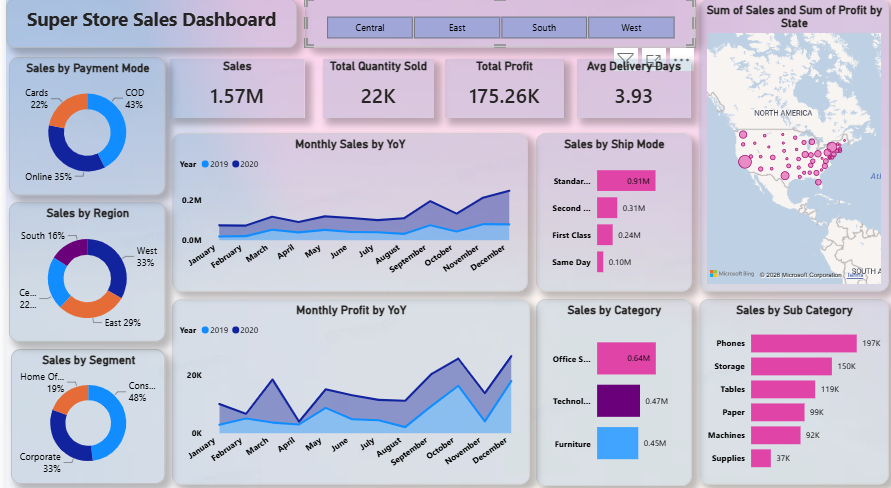

The page's visual inventory and layout, read from the dashboard file:
{"tool":"powerbi","page":{"name":"Page 1","canvas":[1280,720],"ordinal":0},"visuals":[{"type":"clusteredBarChart","title":"Sales by Category","fields":{"Category":["SuperStore_Sales_Dataset.Category"],"Y":["Sum(SuperStore_Sales_Dataset.Sales)"]},"box":[762.7,437.3,223.9,268.7],"z":0},{"type":"clusteredBarChart","title":"Sales by Sub Category","fields":{"Y":["Sum(SuperStore_Sales_Dataset.Sales)"],"Category":["SuperStore_Sales_Dataset.Sub-Category"]},"box":[998.5,437.3,273.1,267.2],"z":1000},{"type":"clusteredBarChart","title":"Sales by Ship Mode","fields":{"Y":["Sum(SuperStore_Sales_Dataset.Sales)"],"Category":["SuperStore_Sales_Dataset.Ship Mode"]},"box":[762.7,198.5,223.9,228.4],"z":2000},{"type":"stackedAreaChart","title":"Monthly Sales by YoY","fields":{"Y":["Sum(SuperStore_Sales_Dataset.Sales)"],"Series":["SuperStore_Sales_Dataset.Order Date.Variation.Date Hierarchy.Year"],"Category":["SuperStore_Sales_Dataset.Order Date.Variation.Date Hierarchy.Month","SuperStore_Sales_Dataset.Order Date.Variation.Date Hierarchy.Day"]},"box":[238.8,198.5,511.9,228.4],"z":3000},{"type":"stackedAreaChart","title":"Monthly Profit by YoY","fields":{"Series":["SuperStore_Sales_Dataset.Order Date.Variation.Date Hierarchy.Year"],"Category":["SuperStore_Sales_Dataset.Order Date.Variation.Date Hierarchy.Month","SuperStore_Sales_Dataset.Order Date.Variation.Date Hierarchy.Day"],"Y":["Sum(SuperStore_Sales_Dataset.Profit)"]},"box":[238.8,437.3,514.9,267.2],"z":4000},{"type":"map","fields":{"Category":["SuperStore_Sales_Dataset.State"],"Size":["Sum(SuperStore_Sales_Dataset.Sales)"]},"box":[998.5,6,273.1,420.9],"z":5000},{"type":"donutChart","title":"Sales by Segment","fields":{"Category":["SuperStore_Sales_Dataset.Segment"],"Y":["Sum(SuperStore_Sales_Dataset.Sales)"]},"box":[7.5,510.4,222.4,194],"z":6000},{"type":"donutChart","title":"Sales by Payment Mode","fields":{"Y":["Sum(SuperStore_Sales_Dataset.Sales)"],"Category":["SuperStore_Sales_Dataset.Payment Mode"]},"box":[4.5,89.6,225.4,198.5],"z":7000},{"type":"slicer","fields":{"Values":["SuperStore_Sales_Dataset.Region"]},"box":[430.6,4.3,561.6,70.6],"z":8000},{"type":"textbox","box":[0,4.3,419,72],"z":9000},{"type":"cardVisual","title":"Sales","fields":{"Data":["Sum(SuperStore_Sales_Dataset.Sales)"]},"box":[235.8,92.5,194,85.1],"z":10000},{"type":"cardVisual","title":"Total Quantity Sold","fields":{"Data":["Sum(SuperStore_Sales_Dataset.Quantity)"]},"box":[456.5,92.2,159.8,85],"z":11000},{"type":"cardVisual","title":"Total Profit ","fields":{"Data":["Sum(SuperStore_Sales_Dataset.Profit)"]},"box":[632.8,92.5,171.6,85.1],"z":12000},{"type":"cardVisual","title":"Avg Delivery Days","fields":{"Data":["Avg(SuperStore_Sales_Dataset.AvgDelivery)"]},"box":[822.4,92.5,164.2,85.1],"z":13000},{"type":"donutChart","title":"Sales by Region","fields":{"Y":["Sum(SuperStore_Sales_Dataset.Sales)"],"Category":["SuperStore_Sales_Dataset.Region"]},"box":[4.5,298.5,225.4,201.5],"z":14000}]}

Visuals, with their boxes in screenshot pixels (x1, y1, x2, y2), scaled from the page's 1280x720 canvas onto the 891x488 screenshot:
"Sales by Category" clusteredBarChart: select_region(531, 296, 687, 479)
"Sales by Sub Category" clusteredBarChart: select_region(695, 296, 885, 477)
"Sales by Ship Mode" clusteredBarChart: select_region(531, 135, 687, 289)
"Monthly Sales by YoY" stackedAreaChart: select_region(166, 135, 523, 289)
"Monthly Profit by YoY" stackedAreaChart: select_region(166, 296, 525, 477)
map - SuperStore_Sales_Dataset.State x Sum(SuperStore_Sales_Dataset.Sales): select_region(695, 4, 885, 289)
"Sales by Segment" donutChart: select_region(5, 346, 160, 477)
"Sales by Payment Mode" donutChart: select_region(3, 61, 160, 195)
slicer - SuperStore_Sales_Dataset.Region: select_region(300, 3, 691, 51)
textbox: select_region(0, 3, 292, 52)
"Sales" cardVisual: select_region(164, 63, 299, 120)
"Total Quantity Sold" cardVisual: select_region(318, 62, 429, 120)
"Total Profit " cardVisual: select_region(440, 63, 560, 120)
"Avg Delivery Days" cardVisual: select_region(572, 63, 687, 120)
"Sales by Region" donutChart: select_region(3, 202, 160, 339)
